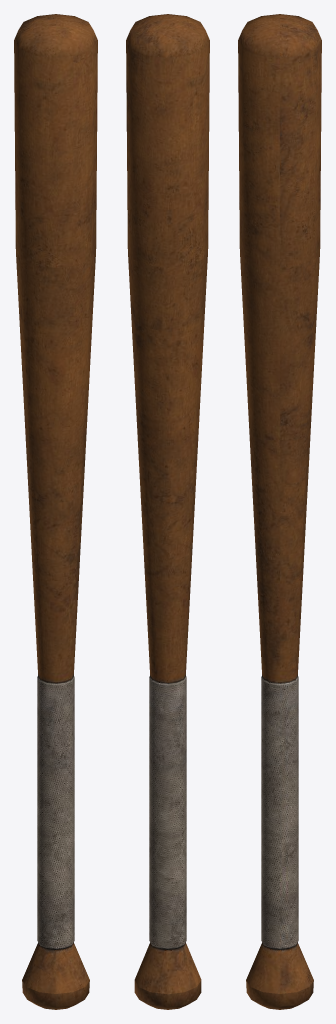
The model's file is baseball-bat.glb.
The picture shows the model from 3 angles, left to right: view 1: azimuth 90°, elevation 25°; view 2: azimuth 150°, elevation 25°; view 3: azimuth 270°, elevation 25°; orthographic projection.
Parts seen in each view (by area): view 1: Baseball_bat; view 2: Baseball_bat; view 3: Baseball_bat.
Boxes of the visible parts, x1,y1,x2,y2 form: Baseball_bat: [14, 14, 97, 1009]; Baseball_bat: [126, 14, 209, 1009]; Baseball_bat: [238, 14, 321, 1009].
Bounding box in the file's own units: 0.067 × 0.8633 × 0.067.
1 material, 1 textured.
